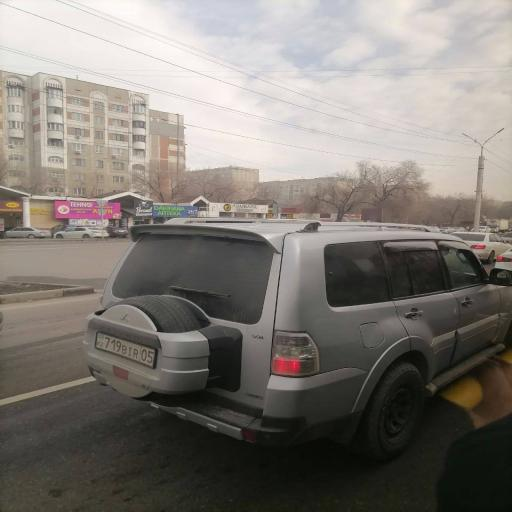book: (82, 218, 512, 460), (54, 227, 108, 239)
elevator: (462, 128, 504, 231)
glass_wall: (0, 240, 471, 512)
